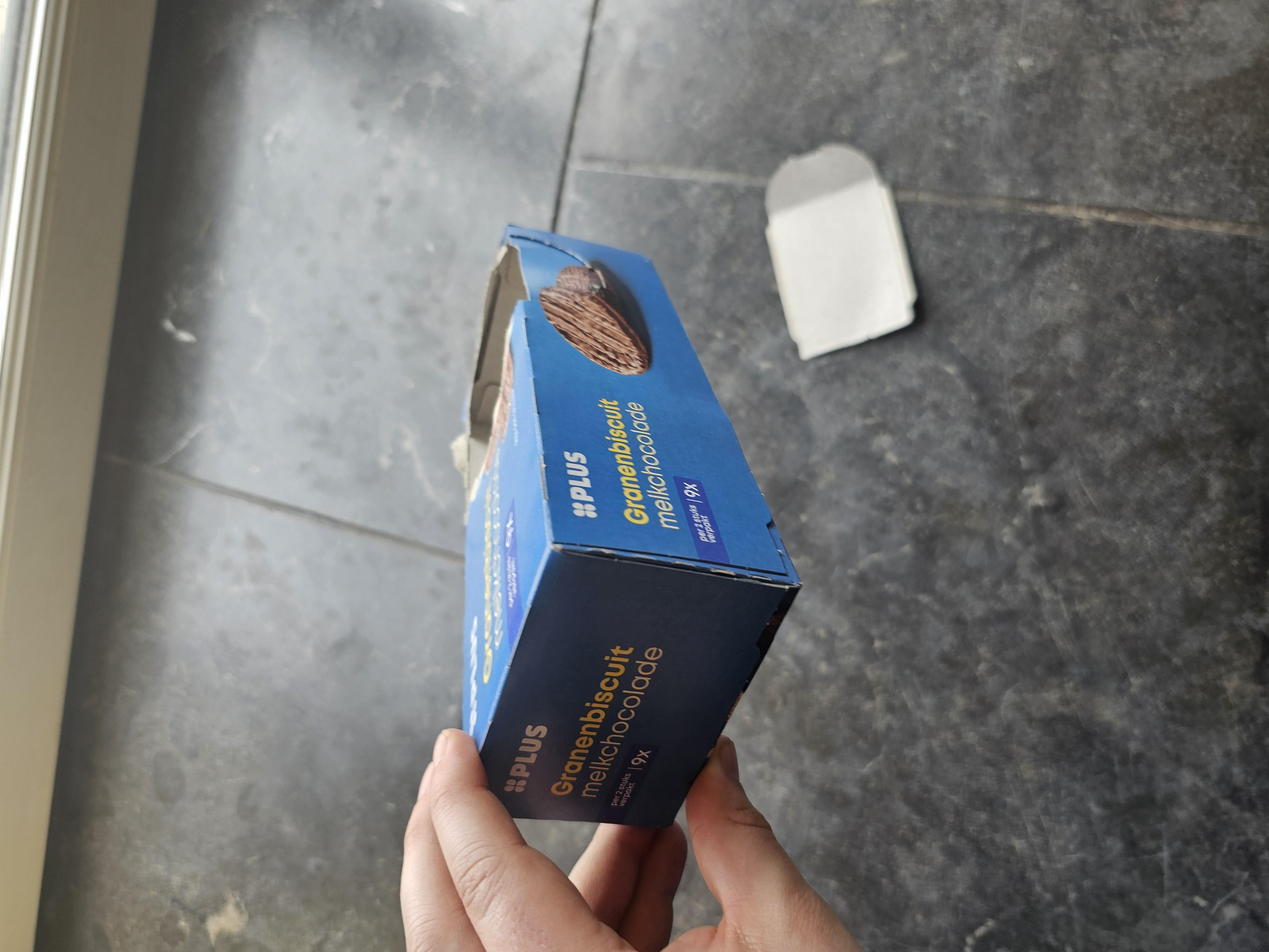Cardboard: (161, 340, 974, 600), (795, 570, 1089, 697)
